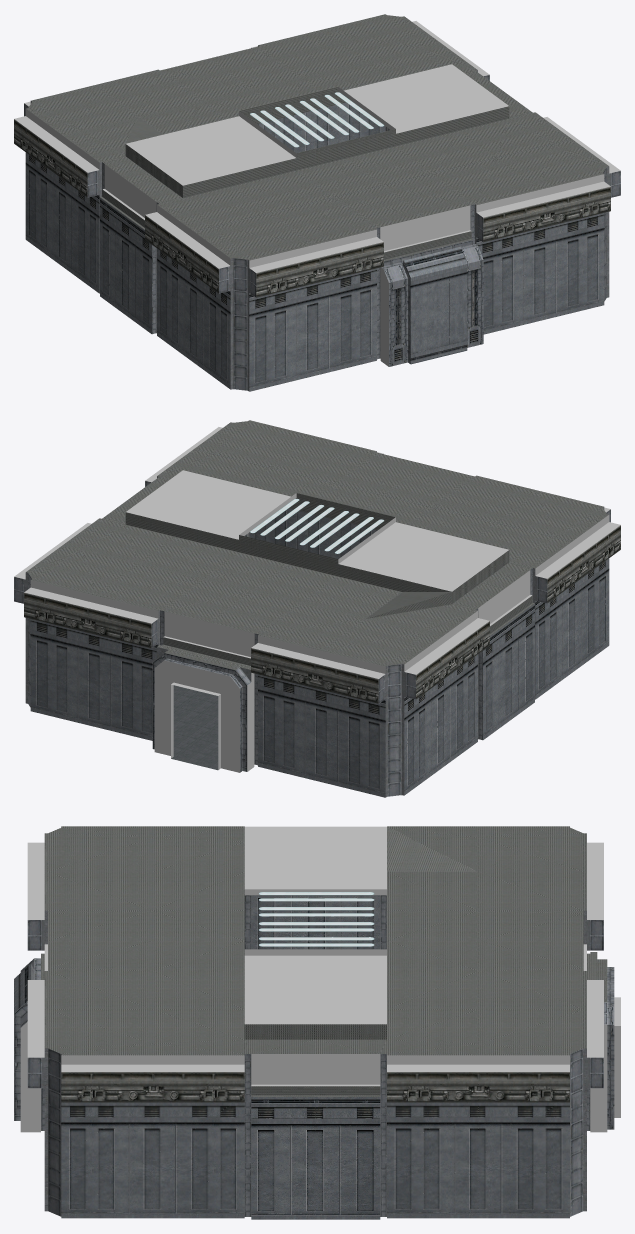
The model's file is poi_all_impl_bunker_warren_s01_r20_smallroom20_mesh_r20.fbx.
The picture shows the model from 3 angles, top to bottom: view 1: azimuth 30°, elevation 25°; view 2: azimuth 150°, elevation 25°; view 3: azimuth 270°, elevation 25°; orthographic projection. The views are drawn at different scales.
Parts seen in each view (by area): view 1: mesh_node; view 2: mesh_node; view 3: mesh_node.
Boxes of the visible parts, x1=… form: mesh_node: x1=14, y1=14, x2=620, y2=391; mesh_node: x1=14, y1=420, x2=620, y2=797; mesh_node: x1=14, y1=826, x2=620, y2=1219.
Size of the model in its own units: 17 by 6 by 17.9.
